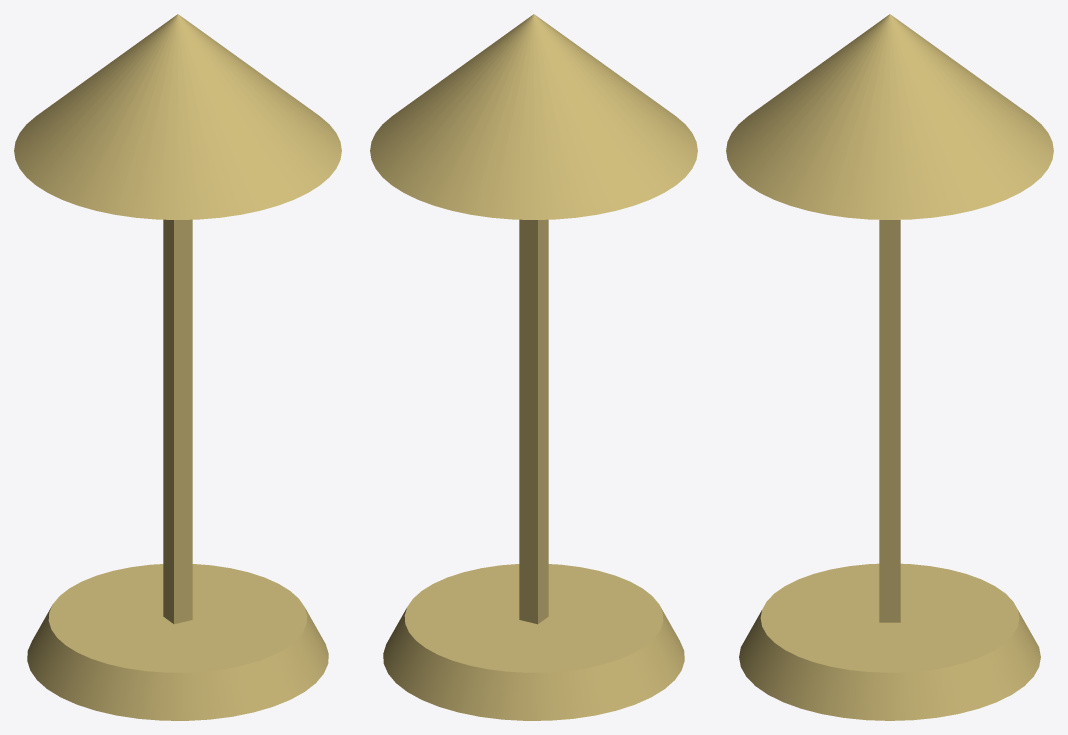
Rendered from lamp.glb.
The picture shows the model from 3 angles, left to right: view 1: azimuth 30°, elevation 25°; view 2: azimuth 150°, elevation 25°; view 3: azimuth 270°, elevation 25°; orthographic projection.
Bounding box in the file's own units: 0.76 × 1.64 × 0.76.
